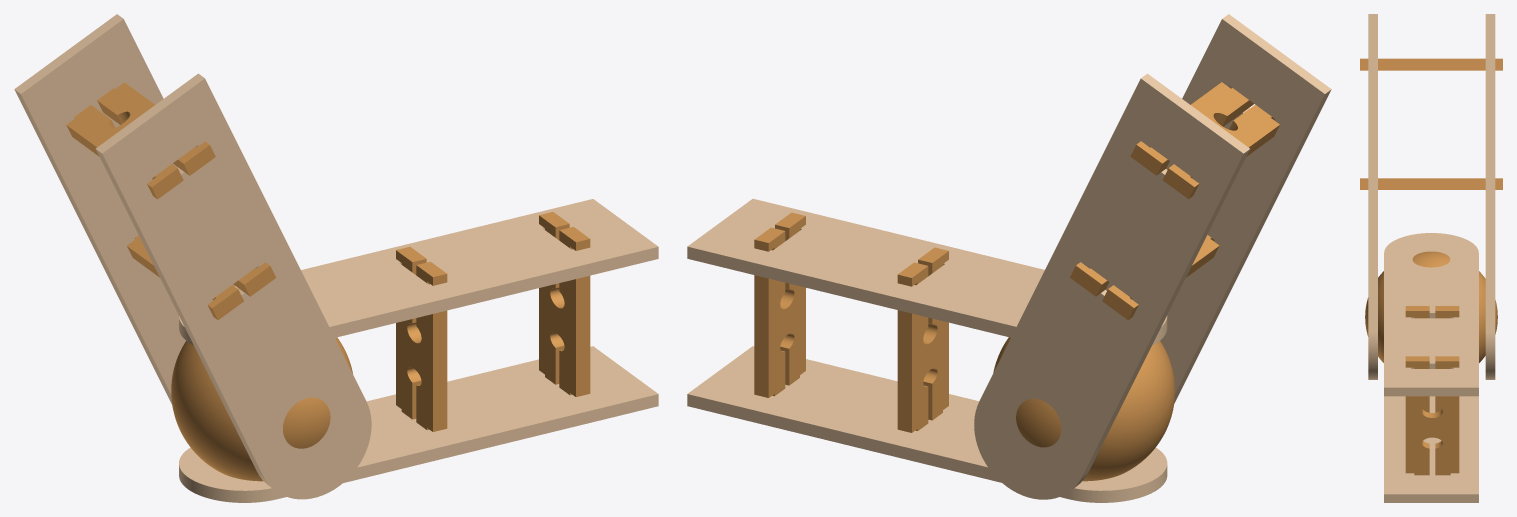
3 renders of one model, left to right at view 1: azimuth 30°, elevation 25°; view 2: azimuth 150°, elevation 25°; view 3: azimuth 270°, elevation 25°, orthographic. The views are drawn at different scales.
Bounding box in the file's own units: 3.57 × 2.76 × 1.07.
